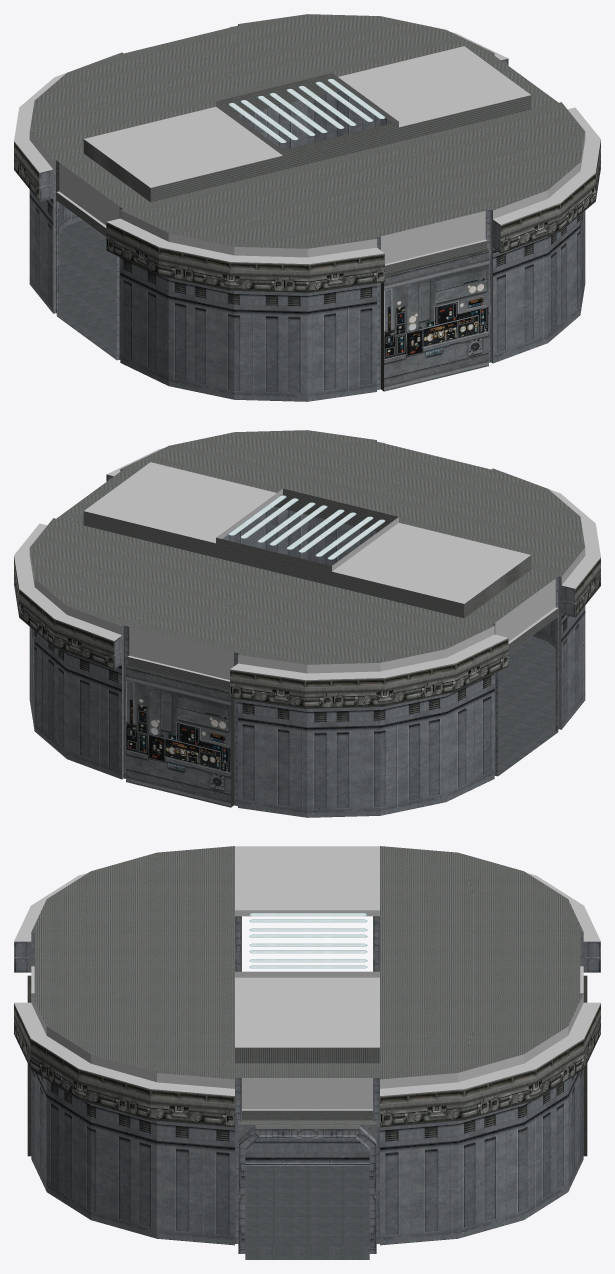
File: poi_all_impl_bunker_small_outpost_s01_r35_elevator_room_mesh.fbx
3 renders of one model, top to bottom at view 1: azimuth 30°, elevation 25°; view 2: azimuth 150°, elevation 25°; view 3: azimuth 270°, elevation 25°, orthographic. The views are drawn at different scales.
Visible parts, largest first — view 1: mesh_node; view 2: mesh_node; view 3: mesh_node.
Boxes of the visible parts, bbox=[...] form: mesh_node: bbox=[14, 14, 600, 401]; mesh_node: bbox=[14, 430, 600, 817]; mesh_node: bbox=[14, 846, 600, 1259].
Size of the model in its own units: 17.5 by 6 by 17.
